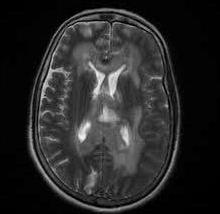Normal_Brain: (1, 1, 199, 214)
